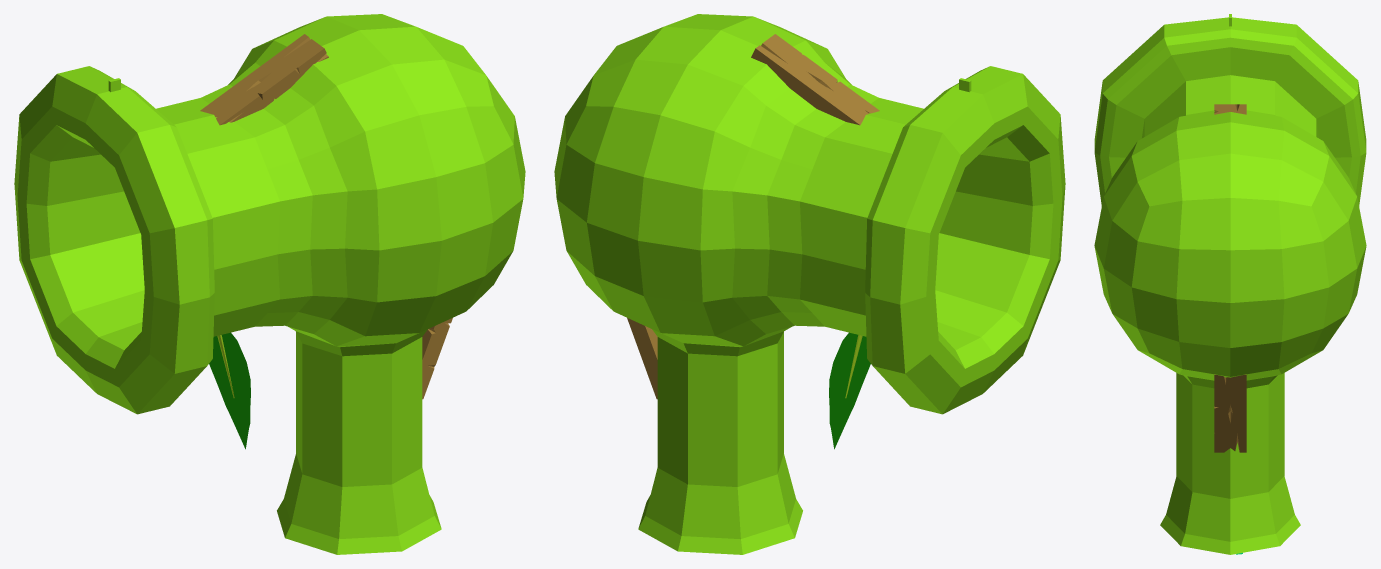
File: carrotpistol.fbx
3 views of the same model, side by side, from view 1: azimuth 30°, elevation 25°; view 2: azimuth 150°, elevation 25°; view 3: azimuth 270°, elevation 25° (orthographic). The views are drawn at different scales.
Visible parts, largest first — view 1: Base, Plank.2, Leaf, Plank; view 2: Base, Plank.2, Leaf, Plank; view 3: Base, Plank.
Boxes of the visible parts, x1=… form: Base: x1=14, y1=14, x2=525, y2=554; Plank.2: x1=200, y1=34, x2=328, y2=125; Leaf: x1=209, y1=332, x2=250, y2=449; Plank: x1=422, y1=318, x2=452, y2=399; Base: x1=554, y1=14, x2=1065, y2=554; Plank.2: x1=751, y1=34, x2=879, y2=125; Leaf: x1=829, y1=332, x2=870, y2=449; Plank: x1=627, y1=318, x2=657, y2=399; Base: x1=1094, y1=14, x2=1366, y2=554; Plank: x1=1214, y1=374, x2=1246, y2=452.
Size of the model in its own units: 244 by 289 by 168.
